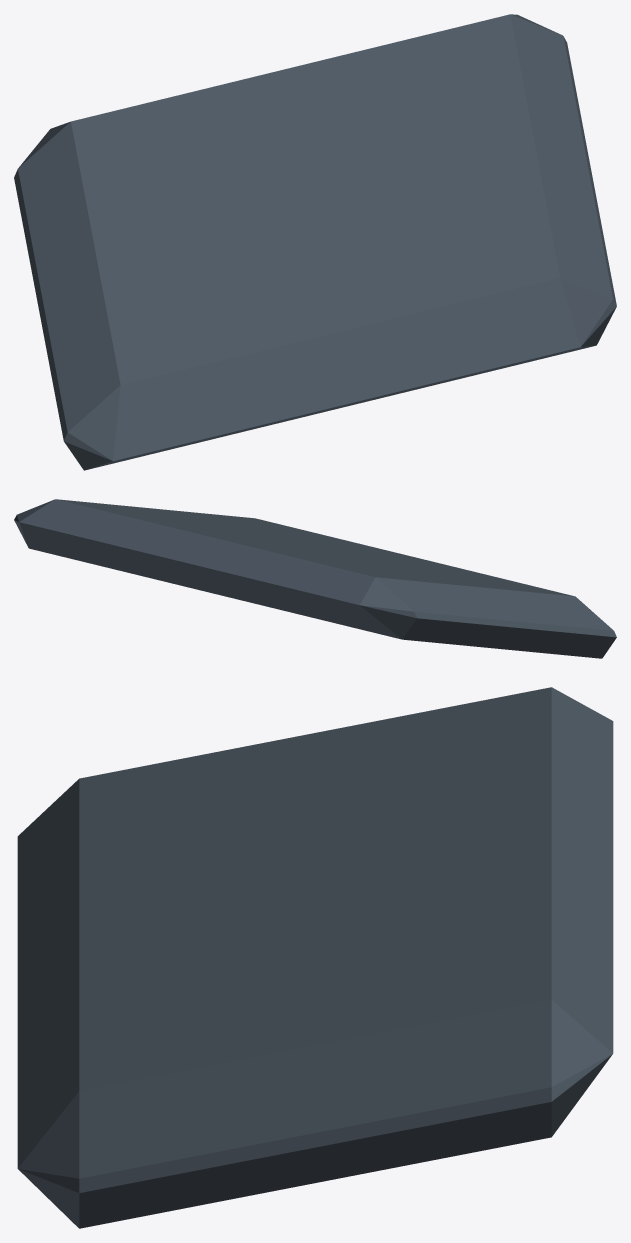
The model's file is Plate_Base.gltf.
3 views of the same model, one above another, from view 1: azimuth 30°, elevation 25°; view 2: azimuth 150°, elevation 25°; view 3: azimuth 270°, elevation 25° (orthographic). The views are drawn at different scales.
Visible parts, largest first — view 1: Plate_Base_baked; view 2: Plate_Base_baked; view 3: Plate_Base_baked.
Boxes of the visible parts, <box> form: Plate_Base_baked: <box>14,14,616,470</box>; Plate_Base_baked: <box>14,499,616,658</box>; Plate_Base_baked: <box>17,687,613,1228</box>.
Bounding box in the file's own units: 1.09 × 0.304 × 0.58.
